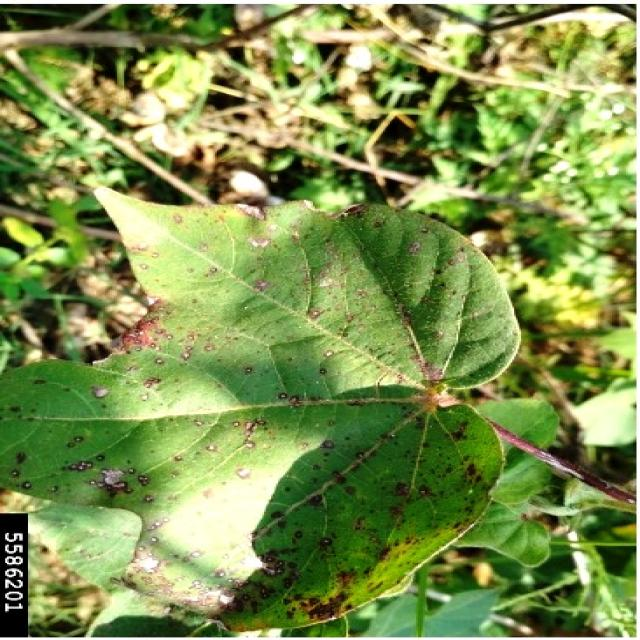Bacterial Blight: (94, 405, 445, 621)
